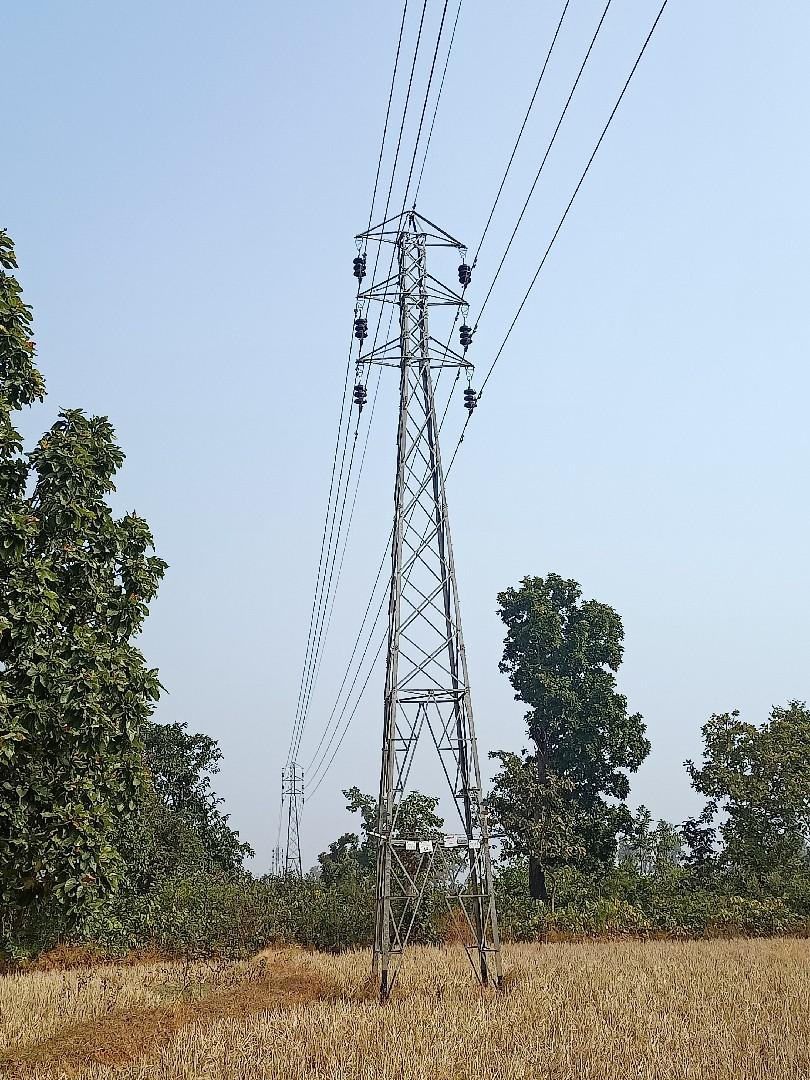GSM Antenna: (351, 208, 513, 952)
